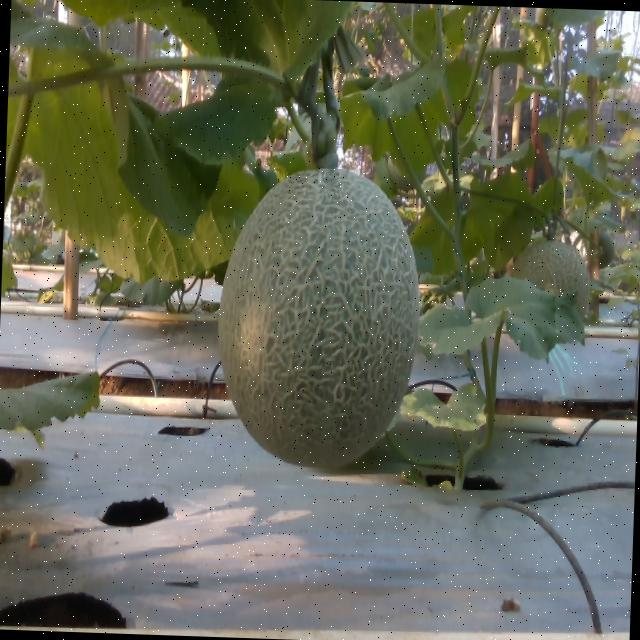melon: (218, 169, 419, 468)
